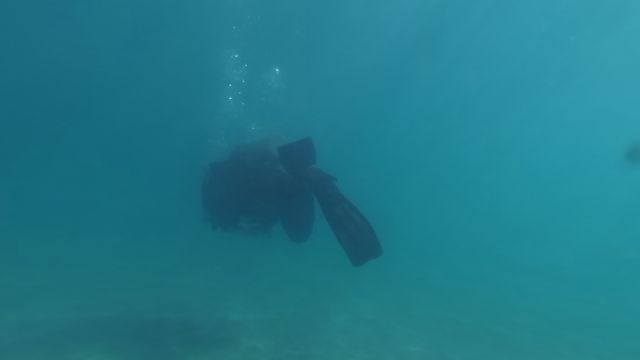Diver: (187, 136, 391, 274)
